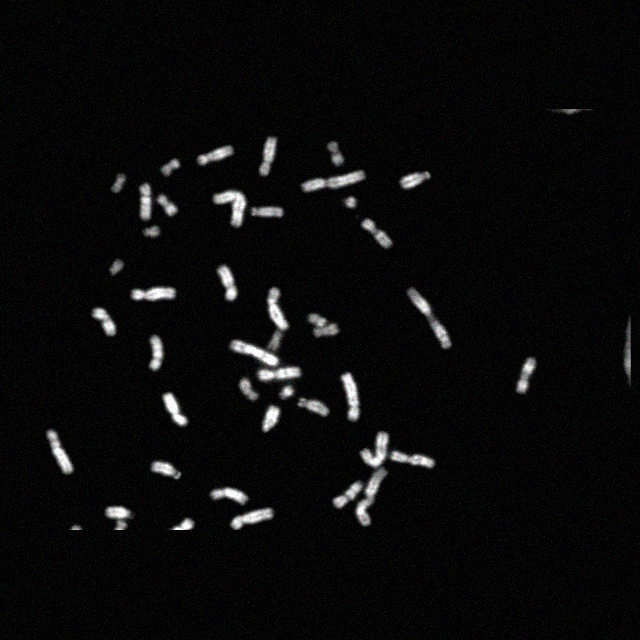chromosome: (408, 287, 450, 349), (357, 466, 388, 526), (302, 170, 364, 192), (230, 340, 278, 366), (214, 190, 246, 228), (48, 429, 72, 473), (231, 507, 273, 531), (265, 286, 287, 330), (341, 372, 359, 422), (361, 432, 387, 466), (332, 481, 362, 509), (362, 219, 390, 247), (164, 392, 186, 426), (392, 450, 433, 468), (198, 146, 234, 166), (259, 138, 277, 176), (132, 286, 174, 302), (517, 357, 535, 393), (212, 488, 248, 506), (218, 265, 236, 301), (298, 398, 328, 418), (402, 169, 431, 189), (94, 309, 115, 335), (153, 462, 181, 480), (258, 368, 300, 380), (149, 336, 163, 370), (262, 406, 280, 432), (240, 376, 258, 399), (326, 141, 342, 165), (251, 205, 283, 217), (159, 196, 177, 217), (140, 183, 150, 220), (314, 324, 338, 338), (268, 332, 284, 351), (308, 312, 326, 328), (104, 508, 132, 518), (278, 384, 294, 400), (162, 160, 180, 174), (111, 174, 125, 192), (110, 258, 124, 276), (145, 226, 161, 237), (345, 197, 357, 209)
